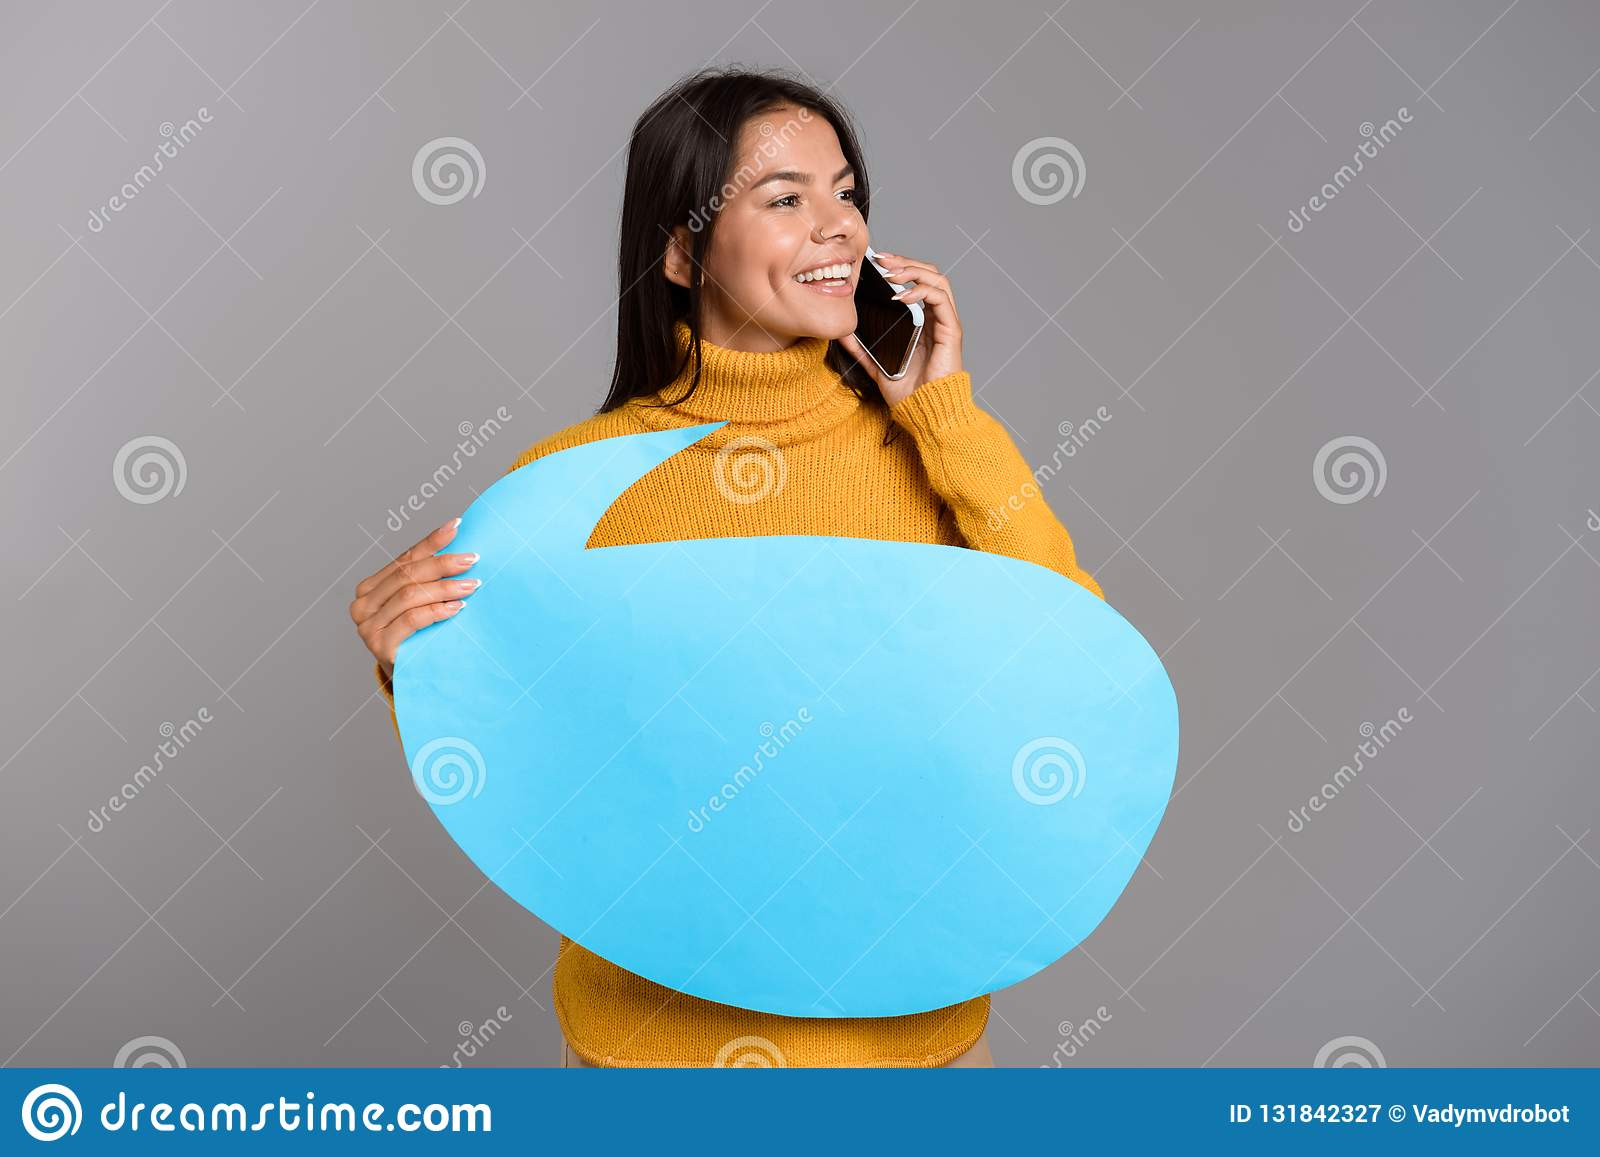phone: (853, 239, 934, 382)
talk: (737, 158, 965, 414)
